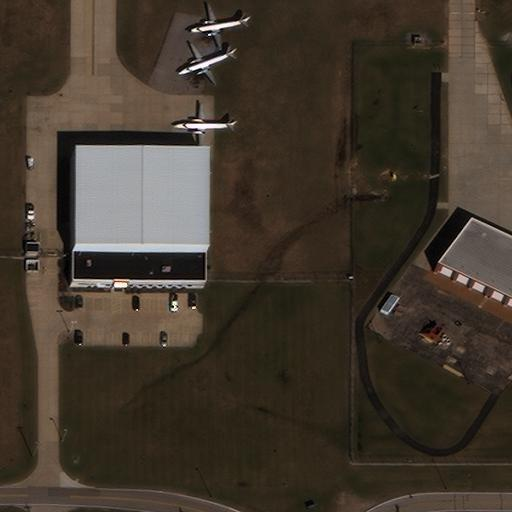Medium Civil Transport: (172, 101, 235, 150), (189, 5, 252, 46), (177, 43, 236, 85)
